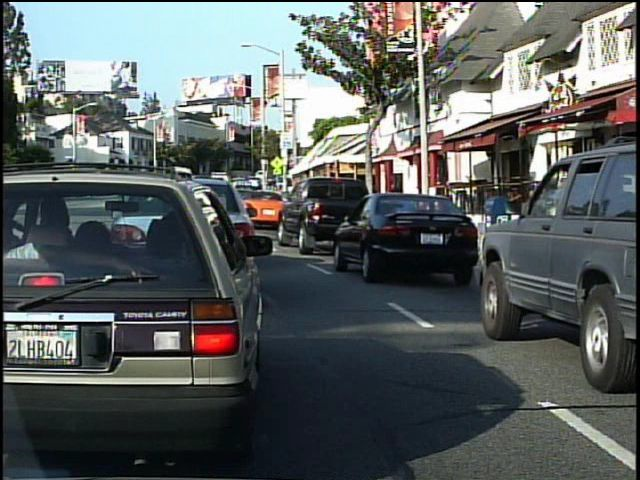person: (589, 145, 623, 250)
